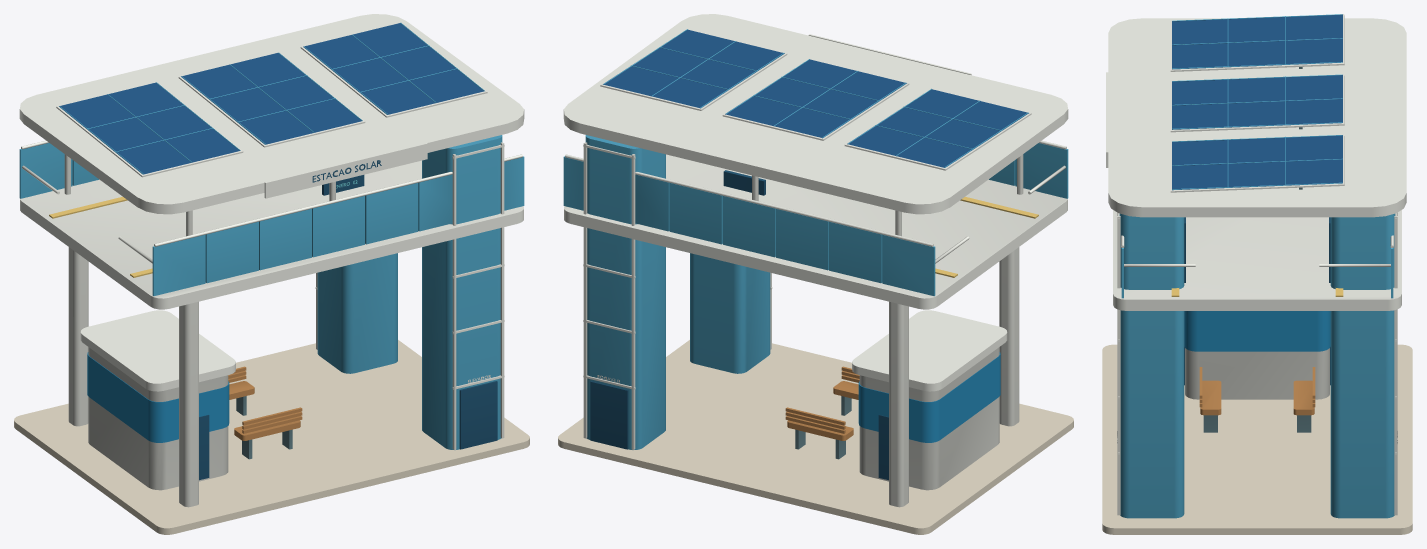
File: solar-station-low.glb
3 renders of one model, left to right at view 1: azimuth 30°, elevation 25°; view 2: azimuth 150°, elevation 25°; view 3: azimuth 270°, elevation 25°, orthographic.
Parts seen in each view (by area): view 1: station pier, solar cell division, station ground plaza, photovoltaic cells, service pavilion glazing, service hall door, ground waiting seat; view 2: station pier, solar cell division, station ground plaza, photovoltaic cells, service pavilion glazing, service hall door, ground waiting seat; view 3: station pier, solar cell division, station ground plaza, photovoltaic cells, service pavilion glazing, ground waiting seat, panel foot.
Boxes of the visible parts, x1,y1,x2,y2 form: station pier: (19, 14, 524, 507); solar cell division: (19, 22, 524, 449); station ground plaza: (14, 340, 529, 534); photovoltaic cells: (59, 23, 483, 174); service pavilion glazing: (87, 352, 229, 442); service hall door: (199, 160, 497, 480); ground waiting seat: (228, 366, 302, 440); station pier: (563, 14, 1068, 507); solar cell division: (563, 29, 1068, 449); station ground plaza: (558, 340, 1073, 534); photovoltaic cells: (603, 29, 1028, 167); service pavilion glazing: (858, 352, 1000, 442); service hall door: (590, 170, 888, 480); ground waiting seat: (785, 366, 859, 440); station pier: (1106, 14, 1406, 515); solar cell division: (1119, 14, 1395, 518); station ground plaza: (1102, 344, 1412, 534); photovoltaic cells: (1172, 14, 1342, 190); service pavilion glazing: (1184, 311, 1330, 351); ground waiting seat: (1199, 367, 1315, 415); panel foot: (1203, 67, 1311, 432).
Bounding box in the file's own units: 7.2 × 6.12 × 5.
